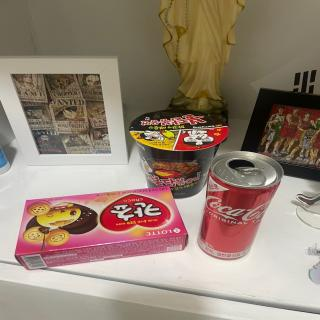cocacola: (190, 148, 302, 265)
